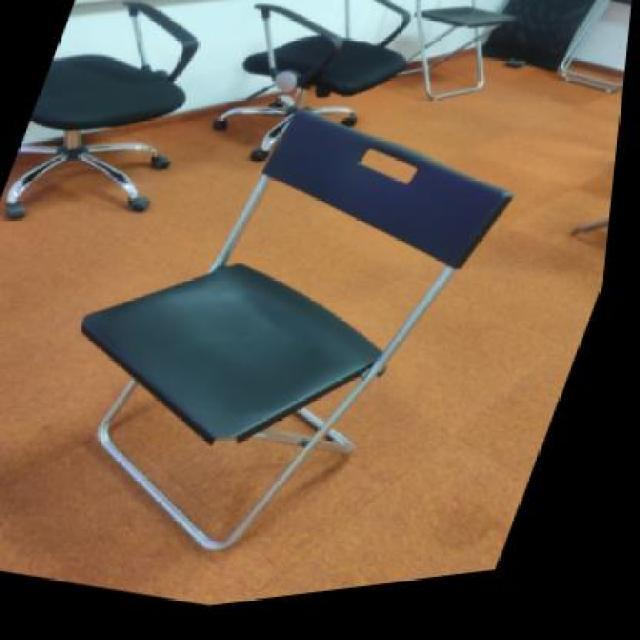chair: (6, 46, 560, 632), (164, 0, 453, 220), (0, 0, 234, 263), (358, 0, 538, 137)
